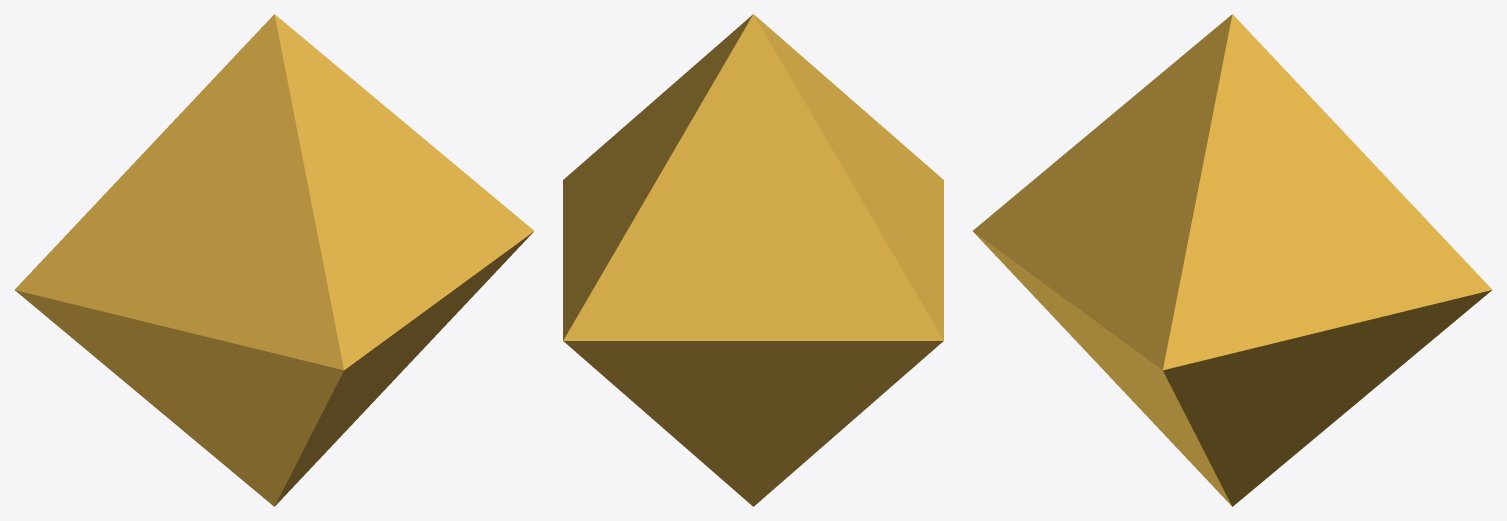
File: Icosahedron.fbx
3 renders of one model, left to right at view 1: azimuth 30°, elevation 25°; view 2: azimuth 150°, elevation 25°; view 3: azimuth 270°, elevation 25°, orthographic.
Parts seen in each view (by area): view 1: Cube.003; view 2: Cube.003; view 3: Cube.003.
Boxes of the visible parts, left/top/right/bottom form: Cube.003: left=15, top=14, right=533, bottom=506; Cube.003: left=563, top=14, right=943, bottom=506; Cube.003: left=973, top=14, right=1491, bottom=506.
Size of the model in its own units: 115 by 120 by 115.
